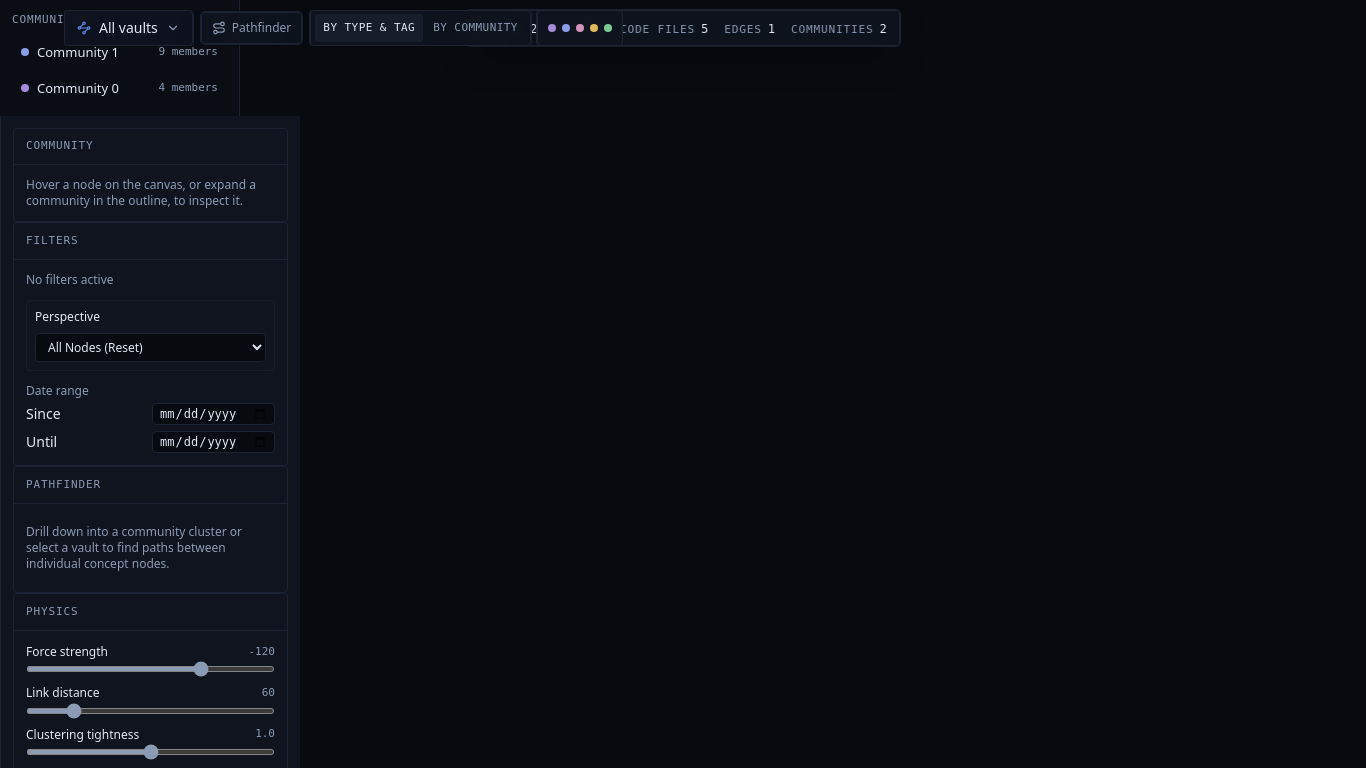
Test: ScopePicker inside GraphCanvas (#712) › renders the open list outside the graph toolbar, so its overflow cannot clip it
Click the button "All vaults" at x=128, y=28, box [64,10,193,46]
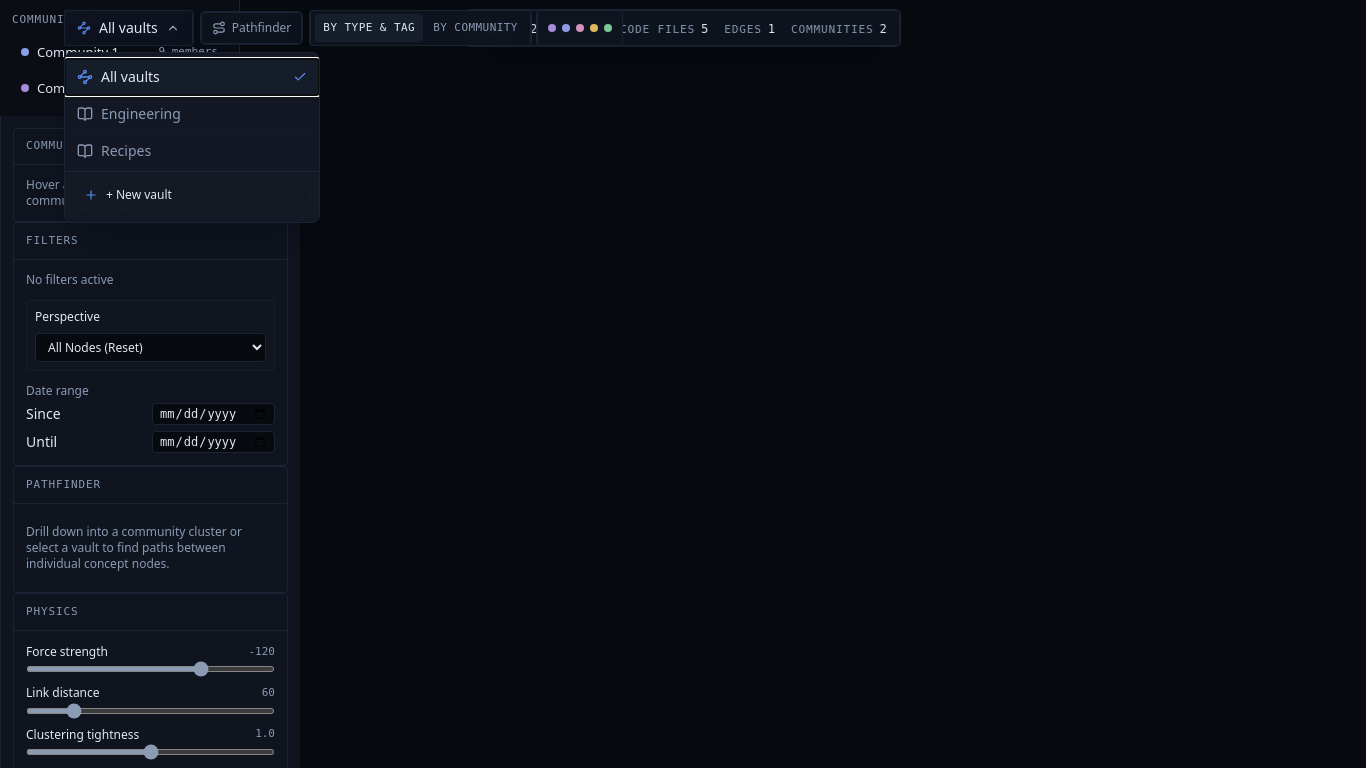
Check: the button "All vaults" is expanded, box [64,10,193,46]
